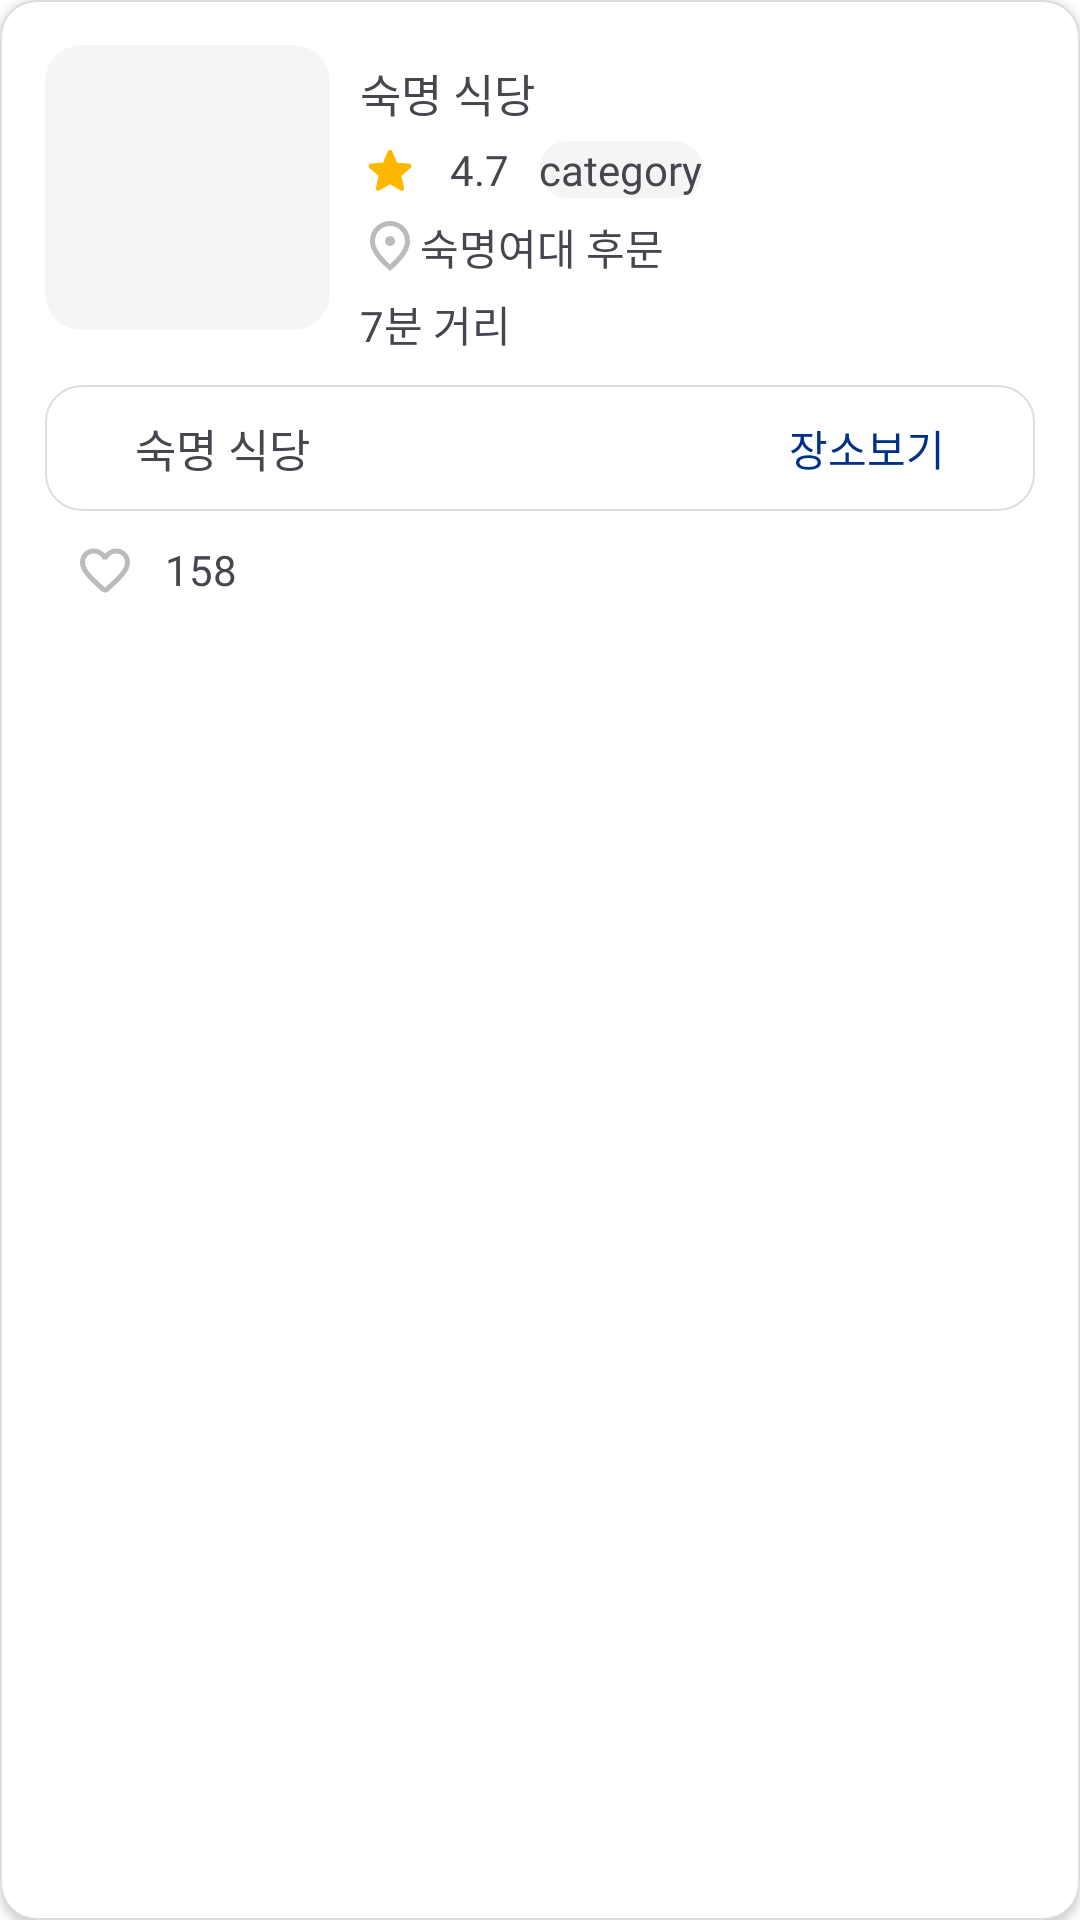

Screen size 1080*1920. Icon name, then its center in pixels as point (x, y):
favorite: point (105, 570)
location: point (390, 246)
star: point (390, 170)
